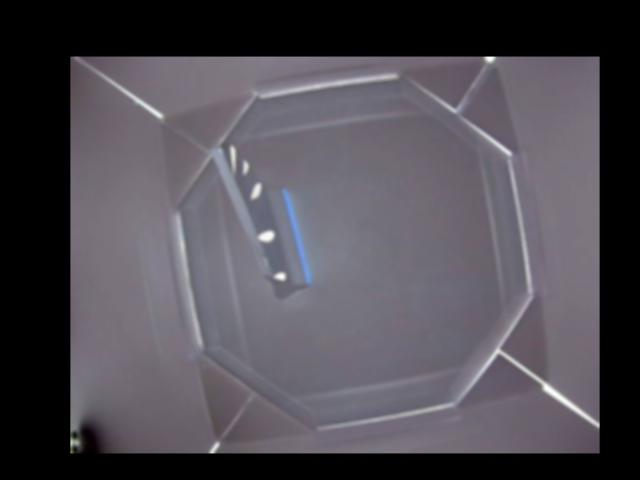China: (210, 145, 311, 299)
